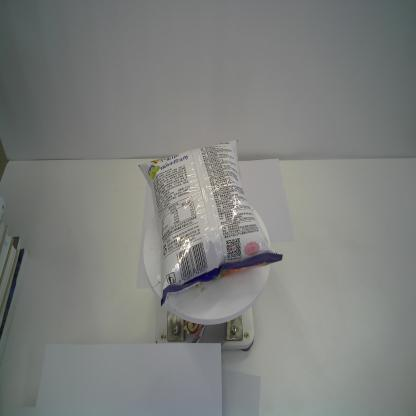Puffed Food: (137, 139, 284, 308)
